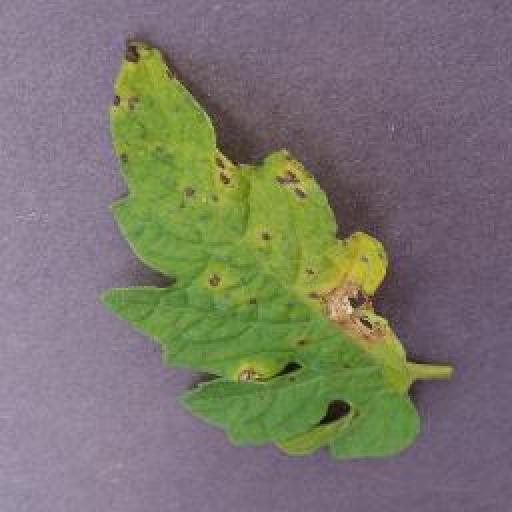disease_tomato: (98, 35, 427, 461)
